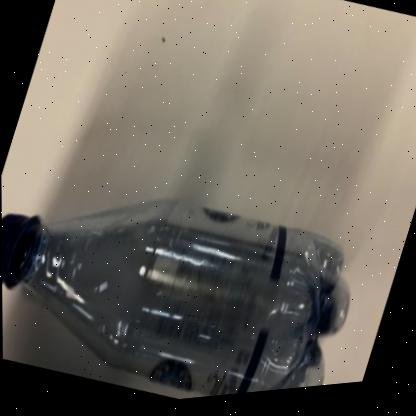Plastic: (1, 203, 349, 401)
